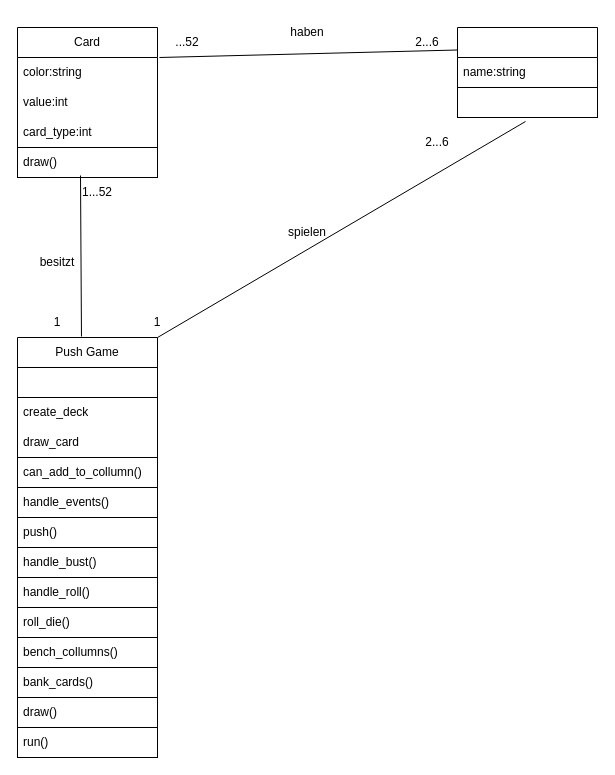
Some shapes in this 615 by 775 pixel diagram are drawn without their labels. The box of each missing label's shape, as (x1, y1, x2, y2) in pixels:
Player: (456, 26, 598, 118)
player_names: string: (16, 366, 158, 398)
score(): (456, 86, 598, 118)
